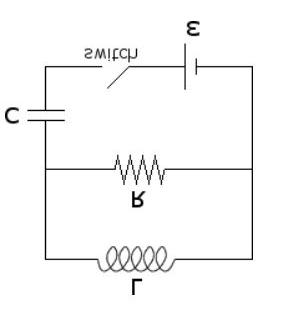Capacitor: (19, 92, 73, 137)
